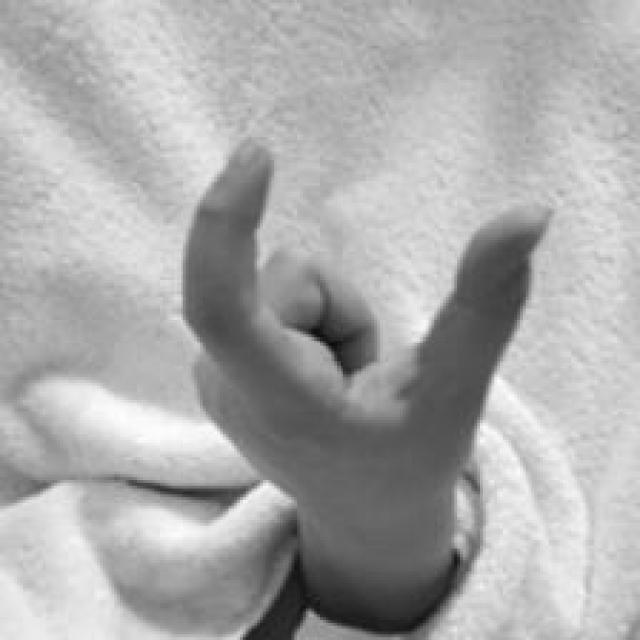U: (169, 134, 564, 538)
